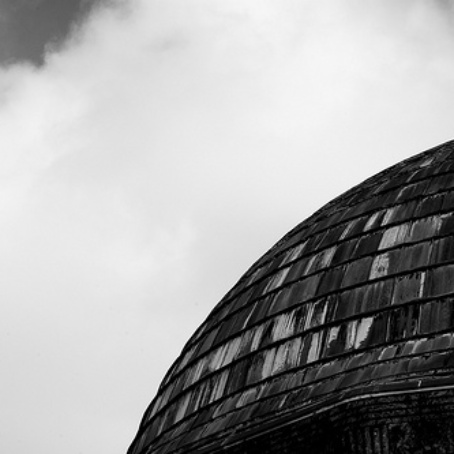building: (156, 153, 454, 454)
sky: (1, 1, 441, 421)
